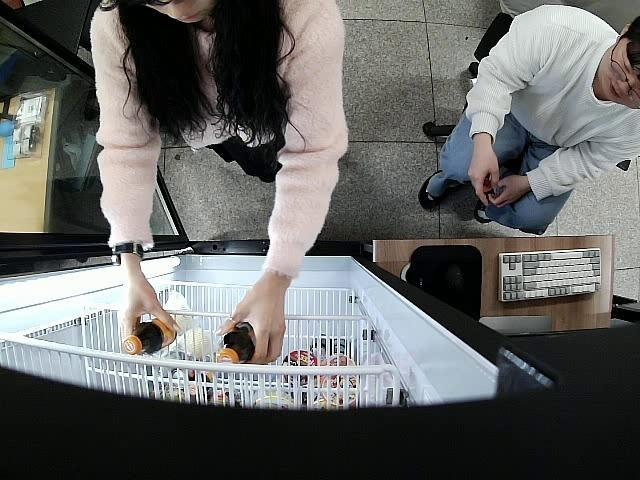17_vita500: (123, 318, 178, 356), (218, 328, 256, 366)
